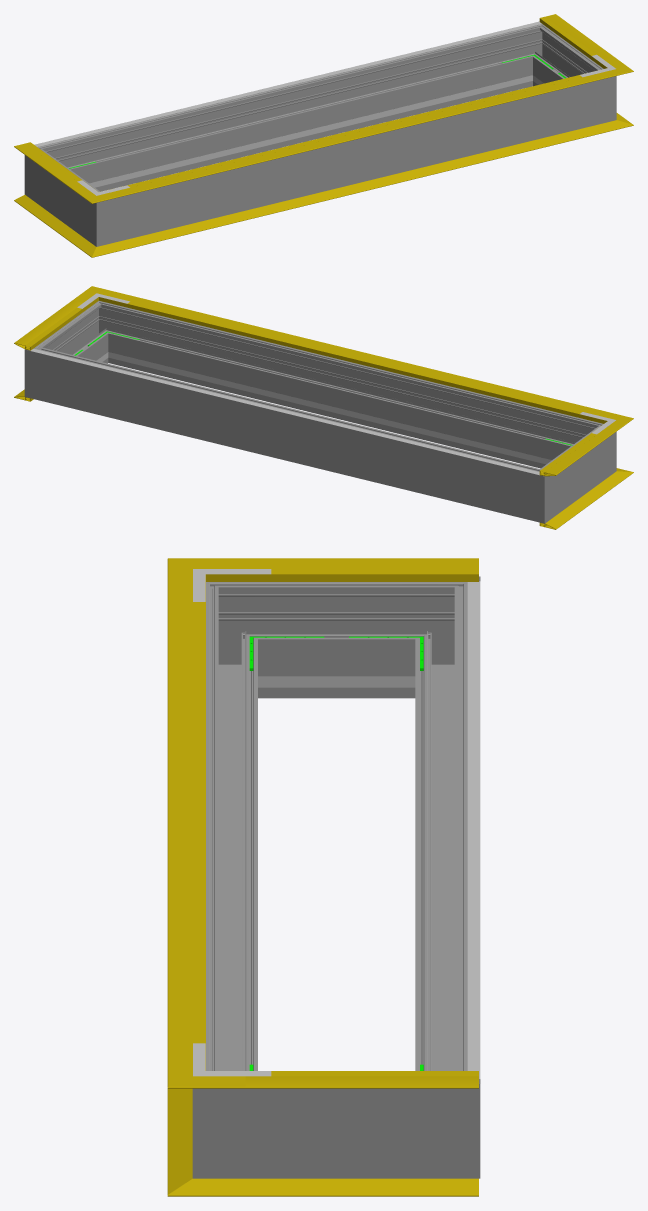
3 renders of one model, top to bottom at view 1: azimuth 30°, elevation 25°; view 2: azimuth 150°, elevation 25°; view 3: azimuth 270°, elevation 25°, orthographic. The views are drawn at different scales.
Parts seen in each view (by area): view 1: 3DGeom-276, 3DGeom-298, 3DGeom-28, 3DGeom-141, 3DGeom-244, 3DGeom-270, 3DGeom-220, 3DGeom-158, 3DGeom-290, 3DGeom-284, 3DGeom-297, 3DGeom-268 (+8 smaller); view 2: 3DGeom-298, 3DGeom-276, 3DGeom-141, 3DGeom-278, 3DGeom-239, 3DGeom-284, 3DGeom-220, 3DGeom-158, 3DGeom-290, 3DGeom-297, 3DGeom-268, 3DGeom-270 (+5 smaller); view 3: 3DGeom-276, 3DGeom-298, 3DGeom-268, 3DGeom-141, 3DGeom-297, 3DGeom-284, 3DGeom-290, 3DGeom-220, 3DGeom-158, 3DGeom-278, 3DGeom-270, 3DGeom-147 (+10 smaller).
Boxes of the visible parts, x1,y1,x2,y2 form: 3DGeom-276: [61, 31, 527, 191]; 3DGeom-298: [130, 84, 582, 238]; 3DGeom-28: [119, 125, 599, 249]; 3DGeom-141: [120, 74, 599, 195]; 3DGeom-244: [101, 83, 500, 185]; 3DGeom-270: [77, 183, 130, 246]; 3DGeom-220: [34, 21, 541, 146]; 3DGeom-158: [128, 75, 581, 187]; 3DGeom-290: [583, 60, 616, 128]; 3DGeom-284: [514, 24, 558, 87]; 3DGeom-297: [536, 36, 591, 85]; 3DGeom-268: [44, 158, 87, 232]; 3DGeom-298: [114, 307, 579, 468]; 3DGeom-276: [58, 353, 516, 515]; 3DGeom-141: [116, 294, 599, 420]; 3DGeom-278: [511, 459, 564, 523]; 3DGeom-239: [141, 360, 539, 462]; 3DGeom-284: [24, 337, 64, 404]; 3DGeom-220: [30, 348, 539, 475]; 3DGeom-158: [127, 301, 582, 413]; 3DGeom-290: [82, 301, 126, 364]; 3DGeom-297: [49, 312, 105, 362]; 3DGeom-268: [553, 435, 596, 508]; 3DGeom-270: [566, 418, 616, 485]; 3DGeom-276: [415, 609, 467, 1070]; 3DGeom-298: [206, 609, 257, 1070]; 3DGeom-268: [271, 582, 402, 698]; 3DGeom-141: [167, 591, 205, 1053]; 3DGeom-297: [271, 1088, 402, 1178]; 3DGeom-284: [402, 1051, 480, 1178]; 3DGeom-290: [192, 1051, 270, 1178]; 3DGeom-220: [467, 581, 480, 1079]; 3DGeom-158: [193, 602, 205, 1043]; 3DGeom-278: [402, 576, 480, 698]; 3DGeom-270: [206, 582, 270, 698]; 3DGeom-147: [245, 558, 478, 581].
Size of the model in its own units: 2.44 by 0.2357 by 0.6096.
